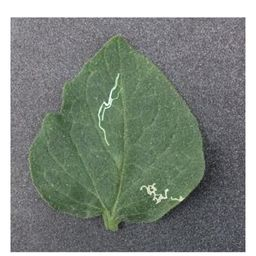liriomyza: (96, 71, 121, 148), (139, 182, 185, 204)
